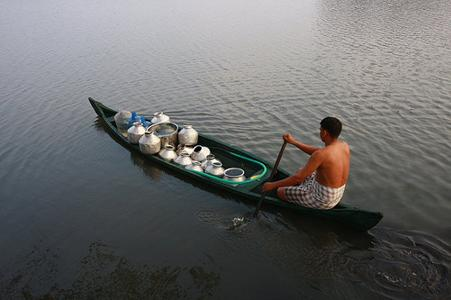person: (260, 117, 353, 209)
